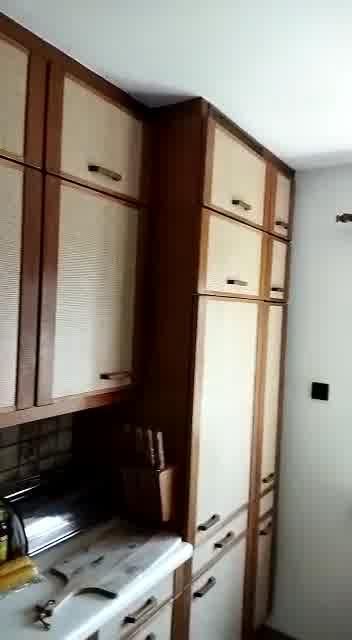cabinet_door: (48, 190, 143, 395), (45, 78, 158, 198), (194, 299, 249, 526), (0, 159, 40, 415), (0, 24, 46, 156), (207, 138, 268, 223), (257, 303, 283, 490), (199, 224, 263, 296), (190, 572, 241, 638), (255, 517, 279, 619), (194, 532, 246, 562), (267, 234, 288, 305), (269, 170, 292, 232)
handle: (86, 158, 123, 188), (193, 503, 223, 534), (99, 366, 134, 389), (213, 526, 237, 554), (272, 214, 295, 238), (195, 576, 216, 602), (263, 279, 288, 300), (253, 514, 278, 535), (259, 467, 278, 492), (231, 196, 254, 216), (225, 274, 249, 290)
